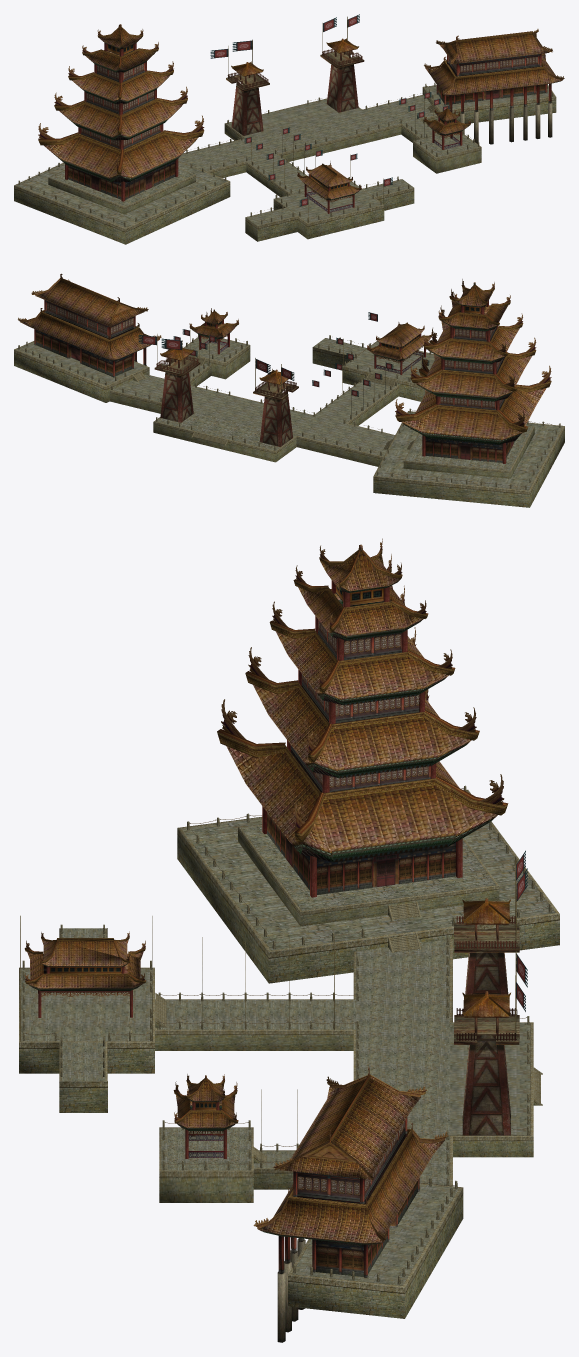
File: cj_ferry_02.glb
The picture shows the model from 3 angles, top to bottom: view 1: azimuth 30°, elevation 25°; view 2: azimuth 150°, elevation 25°; view 3: azimuth 270°, elevation 25°; orthographic projection. The views are drawn at different scales.
Visible parts, largest first — view 1: CJ_ferry_02_buil1_roof, CJ_ferry_02_stone_00, CJ_ferry_02_stone_01, CJ_ferry_02_buil1_door, CJ_ferry_02_tower01, CJ_ferry_02_buil1_gidung, CJ_ferry_02_flag01, CJ_ferry_02_pavilion01, CJ_ferry_02_winlight, CJ_ferry_02_pavilion02, CJ_ferry_02_tower02, CJ_ferry_02_toweralpha; view 2: CJ_ferry_02_buil1_roof, CJ_ferry_02_stone_00, CJ_ferry_02_stone_01, CJ_ferry_02_buil1_door, CJ_ferry_02_tower01, CJ_ferry_02_flag01, CJ_ferry_02_pavilion01, CJ_ferry_02_winlight, CJ_ferry_02_pavilion02, CJ_ferry_02_buil1_gidung, CJ_ferry_02_tower02, CJ_ferry_02_toweralpha; view 3: CJ_ferry_02_buil1_roof, CJ_ferry_02_stone_00, CJ_ferry_02_stone_01, CJ_ferry_02_buil1_door, CJ_ferry_02_tower01, CJ_ferry_02_pavilion01, CJ_ferry_02_buil1_gidung, CJ_ferry_02_winlight, CJ_ferry_02_tower02, CJ_ferry_02_pavilion02, CJ_ferry_02_flag01, CJ_ferry_02_toweralpha (+1 smaller).
Part boxes in pixels (x1=…): CJ_ferry_02_buil1_roof: x1=38, y1=24, x2=562, y2=200; CJ_ferry_02_stone_00: x1=17, y1=86, x2=554, y2=227; CJ_ferry_02_stone_01: x1=14, y1=82, x2=556, y2=244; CJ_ferry_02_buil1_door: x1=68, y1=54, x2=545, y2=199; CJ_ferry_02_tower01: x1=226, y1=38, x2=364, y2=135; CJ_ferry_02_buil1_gidung: x1=424, y1=29, x2=564, y2=144; CJ_ferry_02_flag01: x1=210, y1=14, x2=449, y2=222; CJ_ferry_02_pavilion01: x1=65, y1=43, x2=462, y2=213; CJ_ferry_02_winlight: x1=81, y1=57, x2=537, y2=146; CJ_ferry_02_pavilion02: x1=38, y1=29, x2=470, y2=196; CJ_ferry_02_tower02: x1=226, y1=51, x2=363, y2=89; CJ_ferry_02_toweralpha: x1=227, y1=38, x2=362, y2=88; CJ_ferry_02_buil1_roof: x1=20, y1=278, x2=551, y2=444; CJ_ferry_02_stone_00: x1=17, y1=336, x2=562, y2=490; CJ_ferry_02_stone_01: x1=14, y1=334, x2=564, y2=507; CJ_ferry_02_buil1_door: x1=36, y1=300, x2=514, y2=462; CJ_ferry_02_tower01: x1=154, y1=349, x2=298, y2=446; CJ_ferry_02_flag01: x1=138, y1=312, x2=429, y2=419; CJ_ferry_02_pavilion01: x1=199, y1=300, x2=506, y2=463; CJ_ferry_02_winlight: x1=47, y1=303, x2=502, y2=407; CJ_ferry_02_pavilion02: x1=189, y1=279, x2=551, y2=426; CJ_ferry_02_buil1_gidung: x1=18, y1=273, x2=161, y2=377; CJ_ferry_02_tower02: x1=155, y1=358, x2=298, y2=398; CJ_ferry_02_toweralpha: x1=156, y1=348, x2=296, y2=397; CJ_ferry_02_buil1_roof: x1=24, y1=544, x2=508, y2=1244; CJ_ferry_02_stone_00: x1=21, y1=818, x2=555, y2=1285; CJ_ferry_02_stone_01: x1=19, y1=785, x2=559, y2=1318; CJ_ferry_02_buil1_door: x1=267, y1=619, x2=455, y2=1276; CJ_ferry_02_tower01: x1=454, y1=898, x2=519, y2=1135; CJ_ferry_02_pavilion01: x1=38, y1=580, x2=462, y2=1158; CJ_ferry_02_buil1_gidung: x1=253, y1=1067, x2=448, y2=1342; CJ_ferry_02_winlight: x1=298, y1=620, x2=428, y2=1195; CJ_ferry_02_tower02: x1=454, y1=922, x2=519, y2=1041; CJ_ferry_02_pavilion02: x1=25, y1=538, x2=504, y2=1120; CJ_ferry_02_flag01: x1=20, y1=850, x2=527, y2=1168; CJ_ferry_02_toweralpha: x1=456, y1=899, x2=517, y2=1040.
Bounding box in the file's own units: 155 × 57.24 × 70.96.
13 materials, 13 textured.
